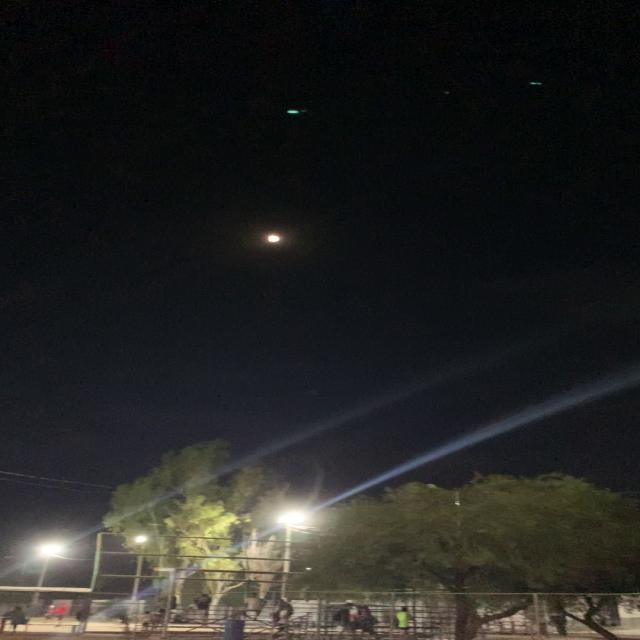moon: (264, 219, 289, 250)
